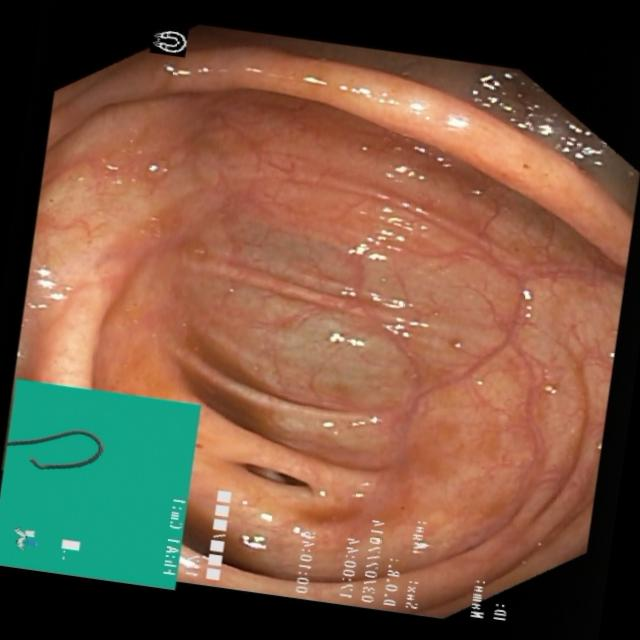normal-cecum: (171, 315, 292, 437), (276, 491, 363, 539)
